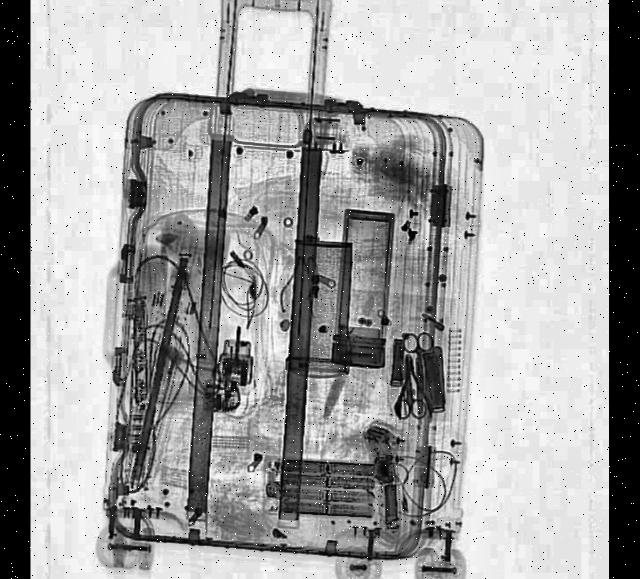Scissors: (402, 328, 440, 414), (400, 351, 426, 416)
